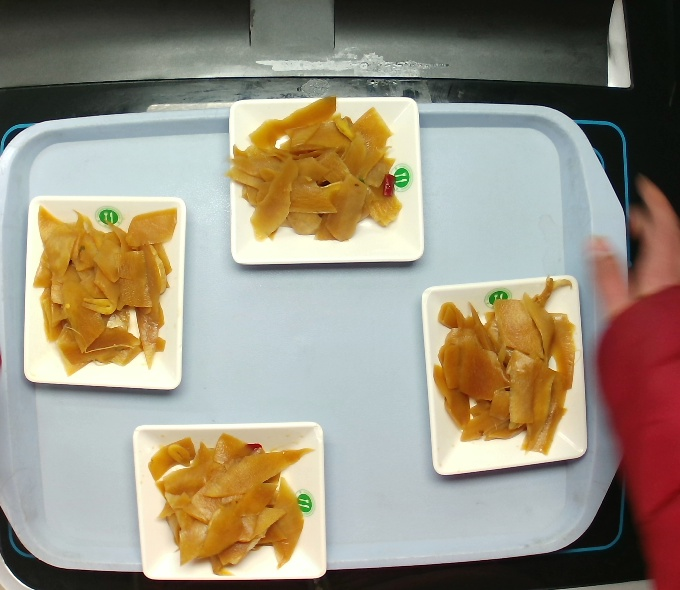wcq-JiangLuoBo: (226, 91, 412, 253), (146, 414, 315, 589), (430, 286, 571, 456), (44, 202, 159, 375)
